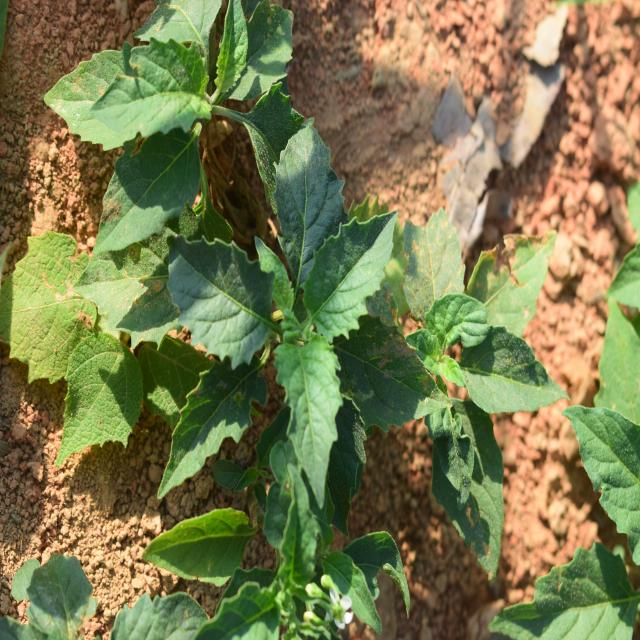Black_nightshade: (180, 136, 415, 483), (382, 230, 546, 564), (62, 6, 296, 216)
